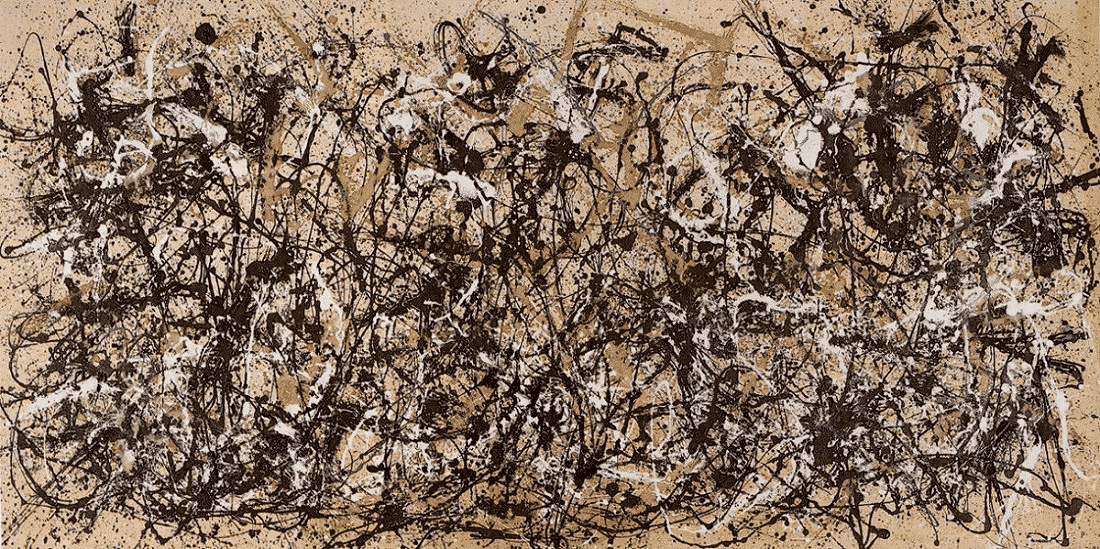Oil on Canvas: (4, 2, 1100, 543)
